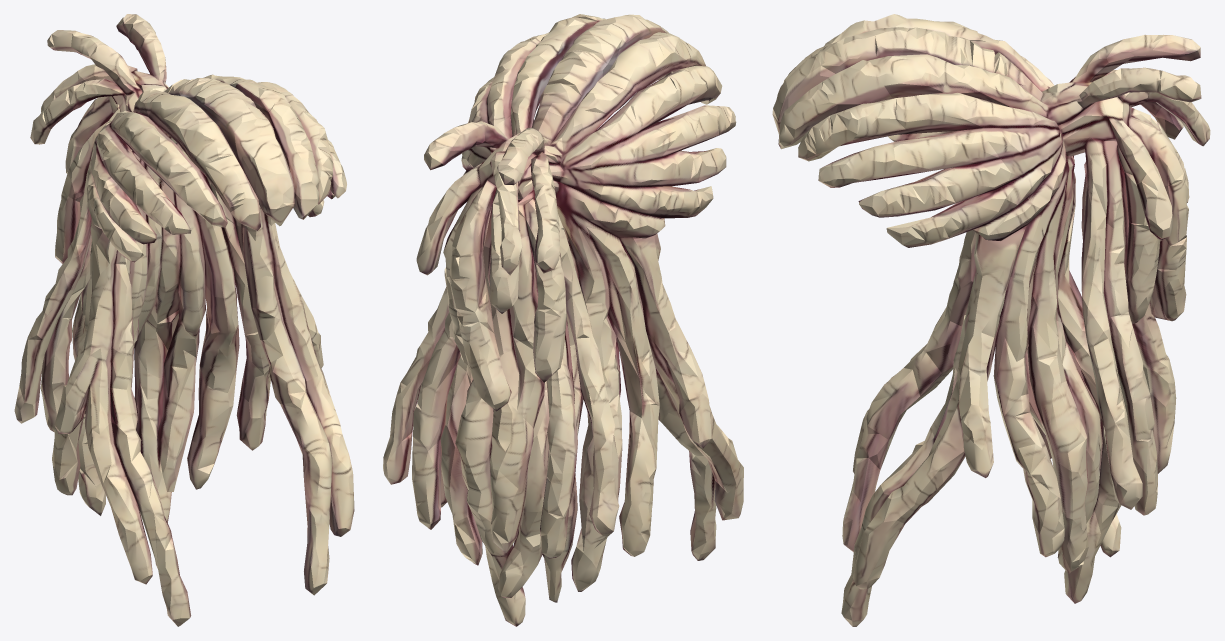
The model's file is fennal_m-tresses-tirees.glb.
3 renders of one model, left to right at view 1: azimuth 30°, elevation 25°; view 2: azimuth 150°, elevation 25°; view 3: azimuth 270°, elevation 25°, orthographic. The views are drawn at different scales.
Parts seen in each view (by area): view 1: geometry_0; view 2: geometry_0; view 3: geometry_0.
Boxes of the visible parts, <box> form: geometry_0: <box>14,14,354,626</box>; geometry_0: <box>383,14,743,626</box>; geometry_0: <box>772,14,1210,626</box>.
Size of the model in its own units: 1.03 by 1.9 by 1.33.
Materials: 1 (1 with a texture image).
